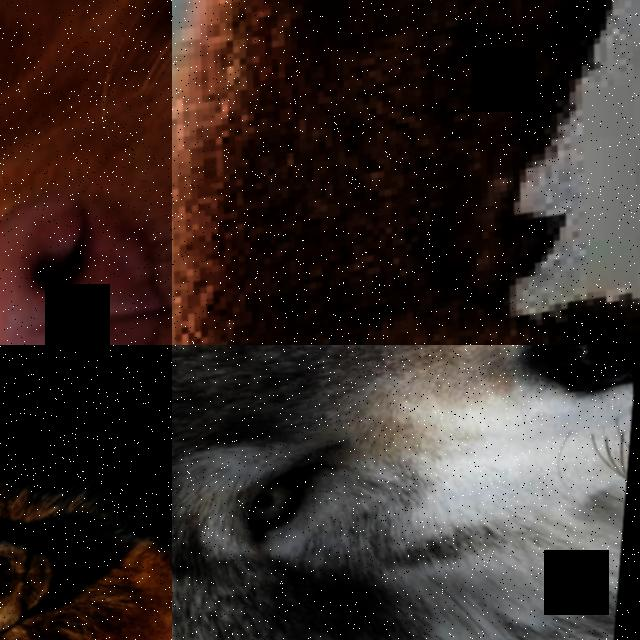dog: (172, 0, 640, 345), (0, 0, 172, 345)
wolf: (172, 345, 640, 640), (0, 372, 172, 640)
